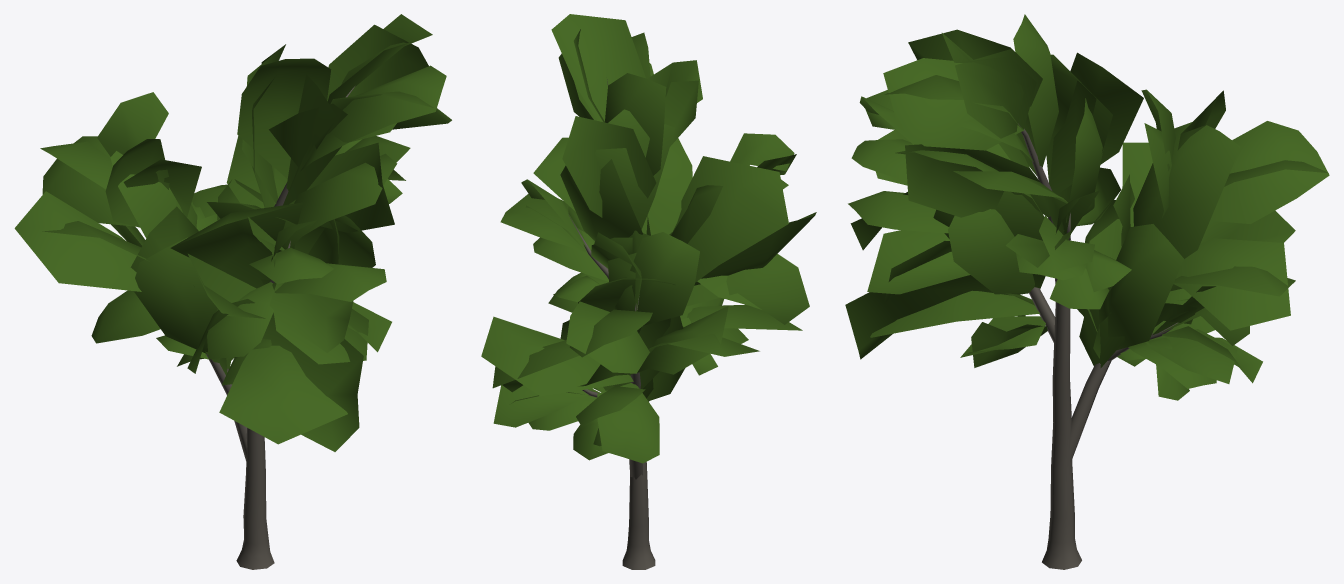
File: tree1.glb
The picture shows the model from 3 angles, left to right: view 1: azimuth 30°, elevation 25°; view 2: azimuth 150°, elevation 25°; view 3: azimuth 270°, elevation 25°; orthographic projection. The views are drawn at different scales.
Visible parts, largest first — view 1: M_Foliage_Trees_01; view 2: M_Foliage_Trees_01; view 3: M_Foliage_Trees_01.
Part boxes in pixels (left/top/right/bottom): M_Foliage_Trees_01: left=14, top=14, right=451, bottom=569; M_Foliage_Trees_01: left=481, top=14, right=816, bottom=569; M_Foliage_Trees_01: left=845, top=14, right=1329, bottom=569.
Bounding box in the file's own units: 6.01 × 9.75 × 7.55.
